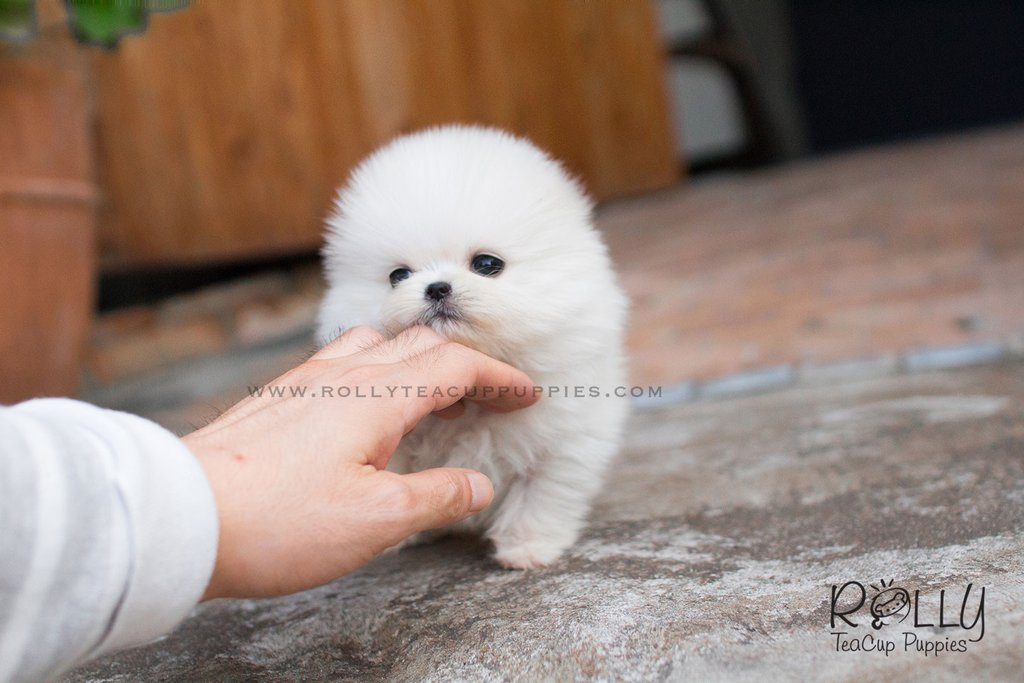pomeranian: (285, 84, 643, 592)
